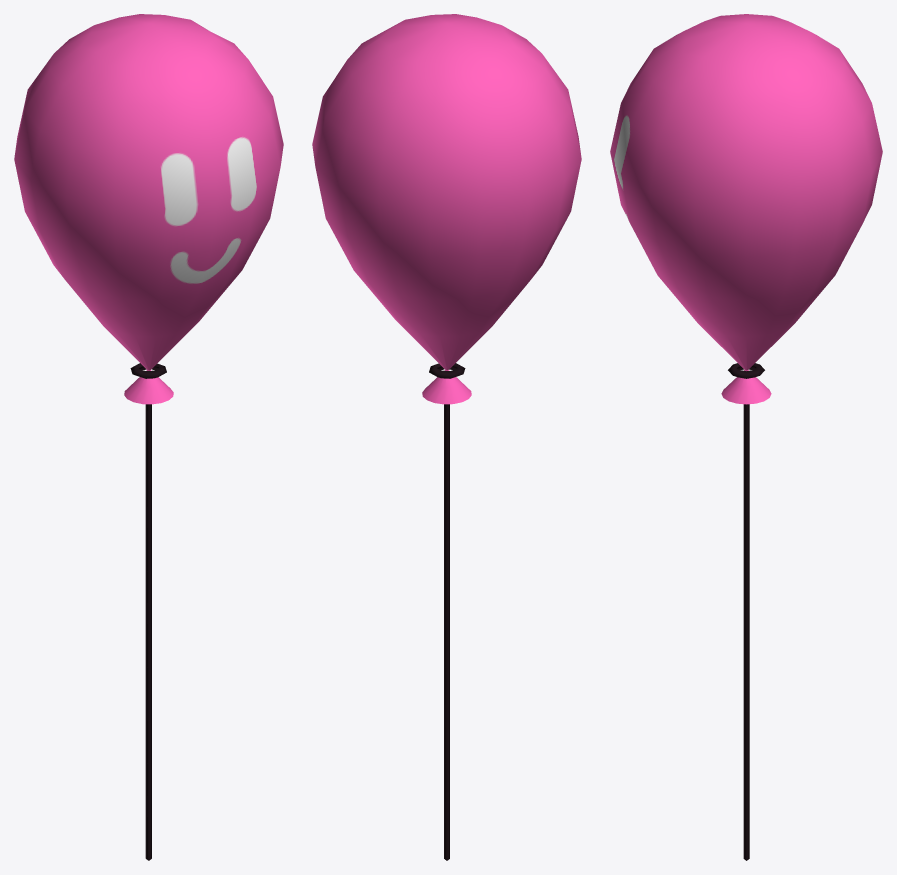
File: baloon_hipoly 1.FBX
3 views of the same model, side by side, from view 1: azimuth 30°, elevation 25°; view 2: azimuth 150°, elevation 25°; view 3: azimuth 270°, elevation 25° (orthographic).
Parts seen in each view (by area): view 1: Balloon002, Balloon_rope002; view 2: Balloon002, Balloon_rope002; view 3: Balloon002, Balloon_rope002.
Boxes of the visible parts, x1=… form: Balloon002: x1=14, y1=14, x2=283, y2=404; Balloon_rope002: x1=145, y1=404, x2=151, y2=860; Balloon002: x1=312, y1=14, x2=581, y2=404; Balloon_rope002: x1=444, y1=404, x2=449, y2=860; Balloon002: x1=610, y1=14, x2=882, y2=404; Balloon_rope002: x1=743, y1=404, x2=749, y2=860.
Size of the model in its own units: 832 by 2814 by 832.
